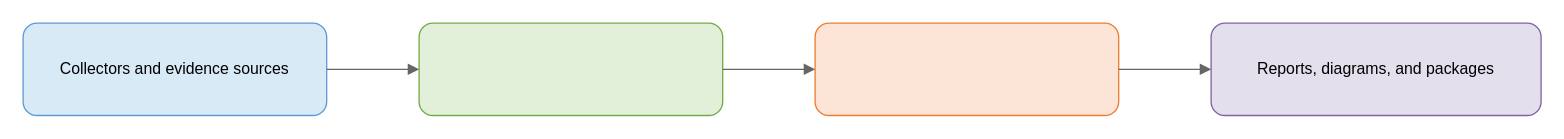
Some shapes in this 1564 by 139 pixel diagram are drawn without their labels. Here are the shapes that lost their labels. From the top down, the centre of each, then its label:
the point at 570,69: Normalized facts + provenance
the point at 966,69: Audit manifest contract
